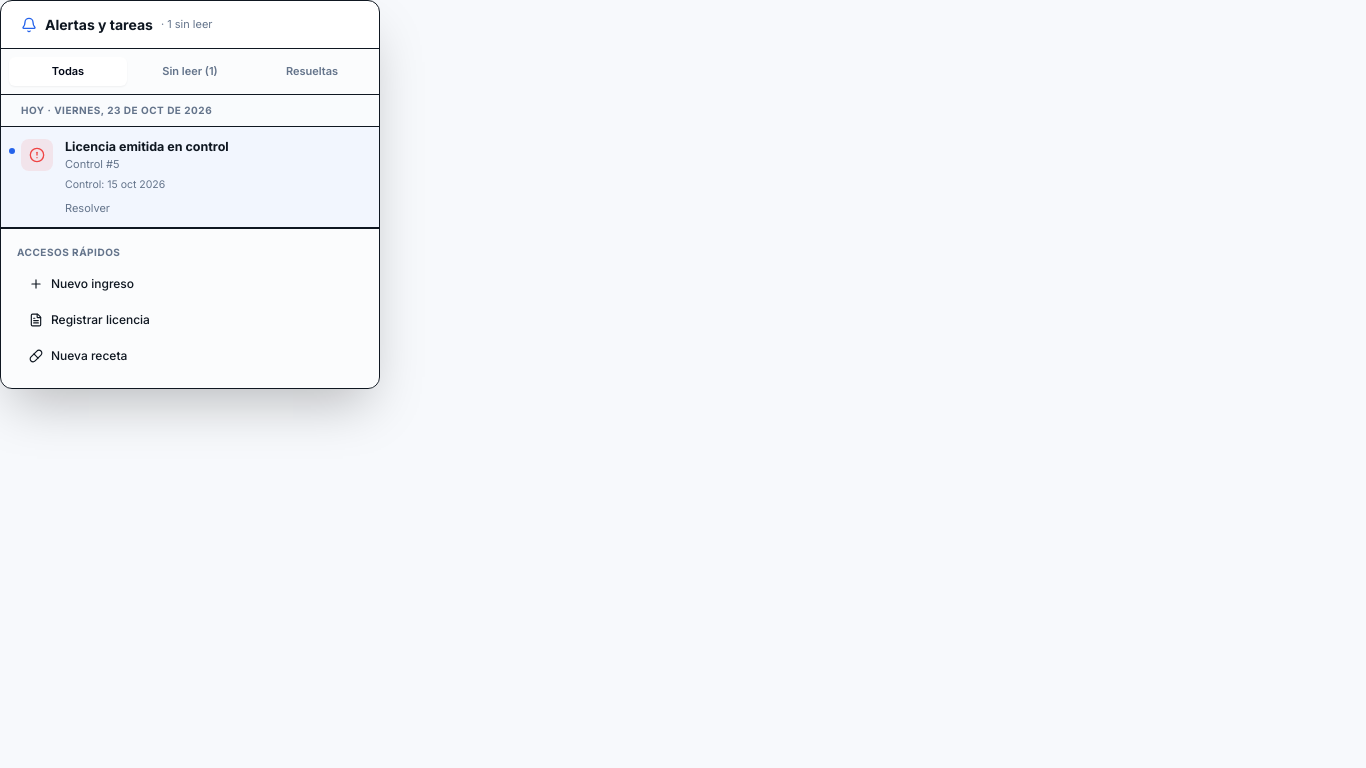
Test: AlertsPanel: detalle de la alerta de control › si el control no existe el diálogo lo dice en vez de quedarse cargando
Click the text "Licencia emitida en control".
click(147, 146)  # box [65,138,229,154]
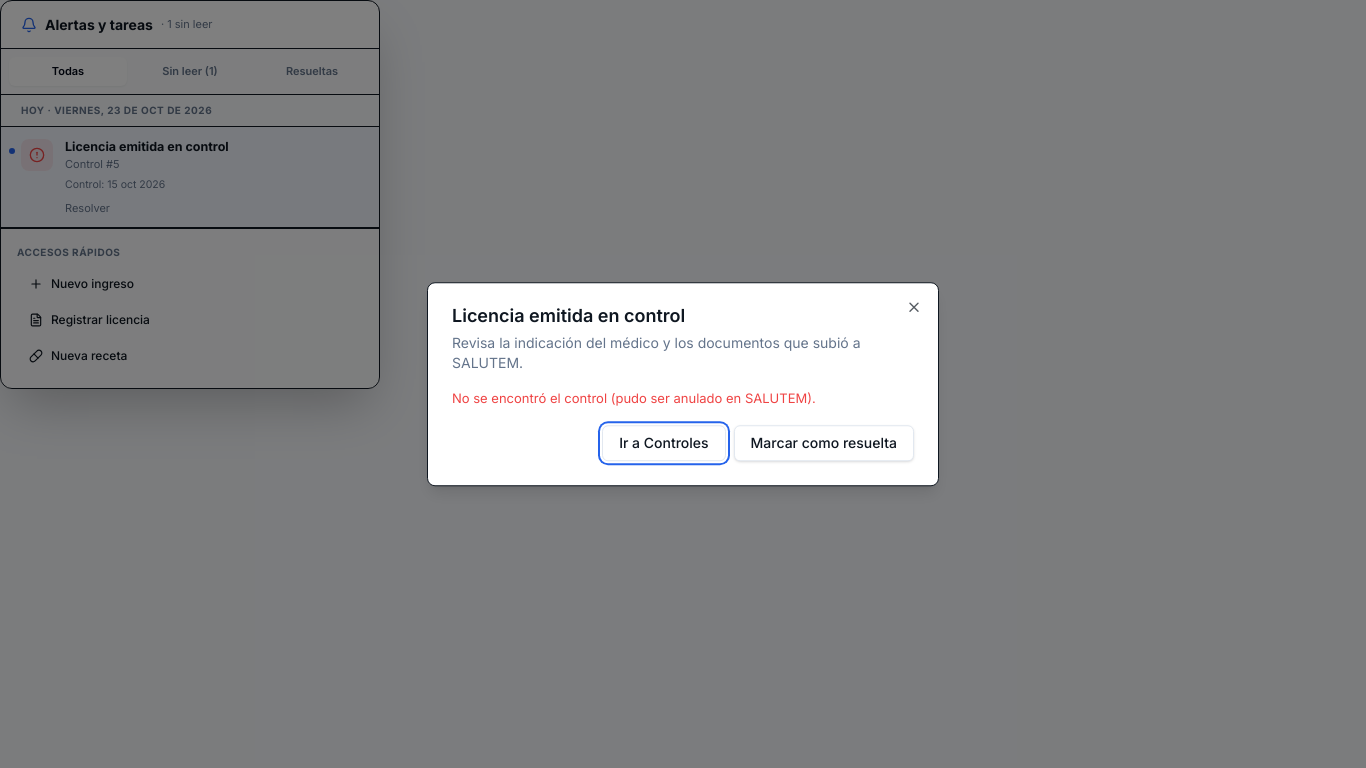
expect the text "No se encontró el control (pudo ser anulado en SALUTEM)." is shown: met, box [452,390,816,406]
